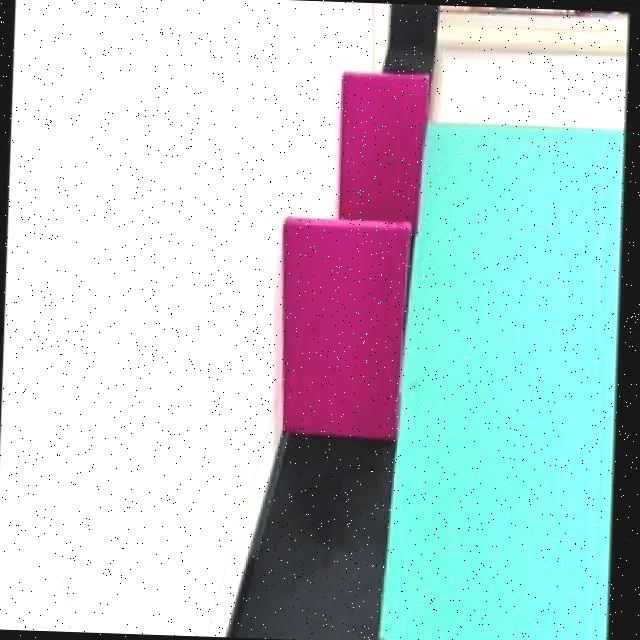xparking: (282, 215, 404, 430), (341, 74, 420, 216)
